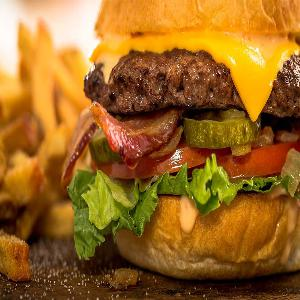cheeseburger_475cal: (76, 1, 300, 266)
